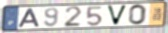0: (127, 4, 150, 26)
2: (64, 6, 83, 28)
5: (86, 5, 105, 27)
9: (43, 7, 60, 27)
A: (17, 8, 41, 29)
V: (106, 4, 129, 26)
